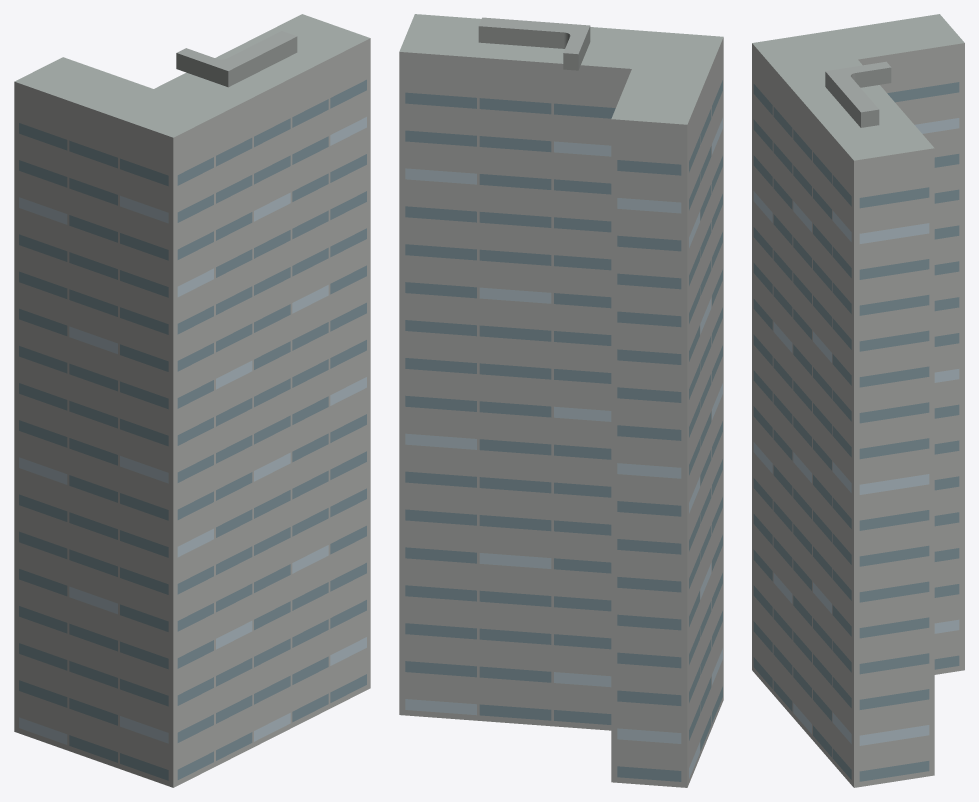
File: fallback-songpa-helio-city-110.glb
The picture shows the model from 3 angles, left to right: view 1: azimuth 30°, elevation 25°; view 2: azimuth 150°, elevation 25°; view 3: azimuth 270°, elevation 25°; orthographic projection. The views are drawn at different scales.
Parts seen in each view (by area): view 1: fallback-songpa-helio-city-110; view 2: fallback-songpa-helio-city-110; view 3: fallback-songpa-helio-city-110.
Part boxes in pixels (x1,y1,x2,y2): fallback-songpa-helio-city-110: (14,14,370,787); fallback-songpa-helio-city-110: (399,14,723,787); fallback-songpa-helio-city-110: (752,14,964,787).
Bounding box in the file's own units: 48.46 × 99 × 29.71.
